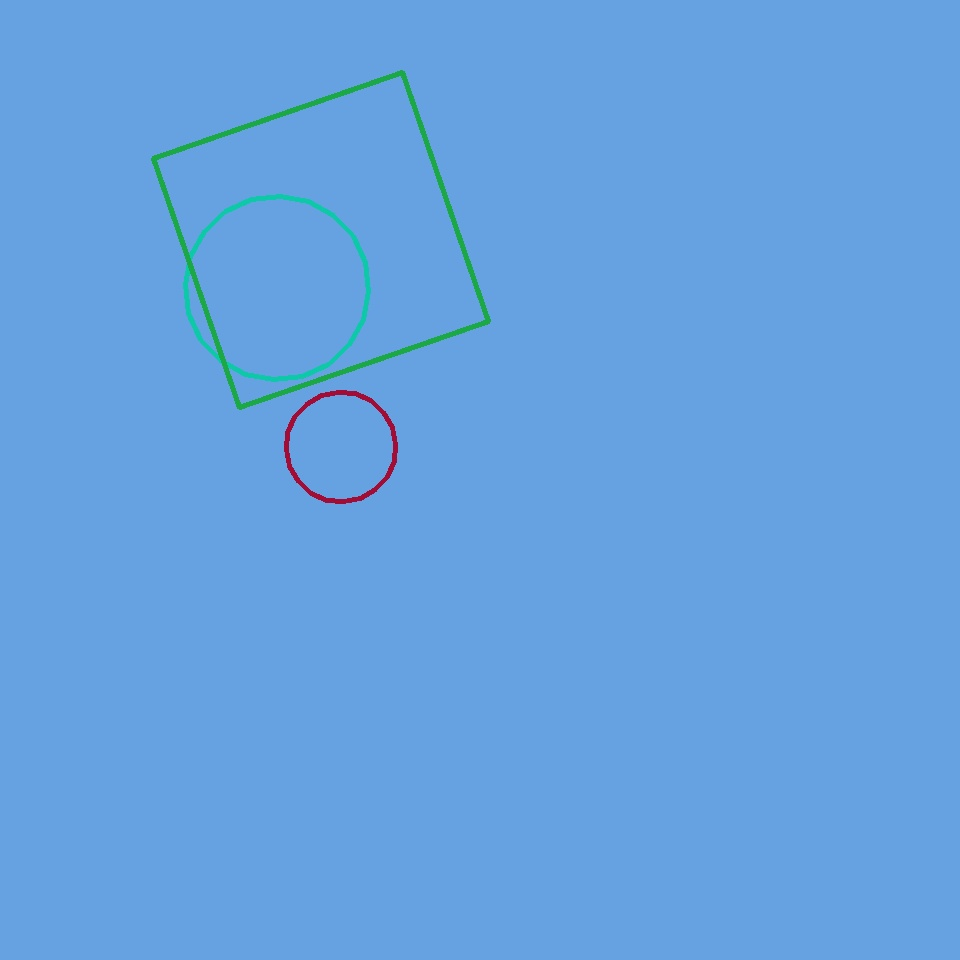square: (154, 73, 488, 407)
triangle: (185, 196, 368, 379), (286, 392, 396, 502)
